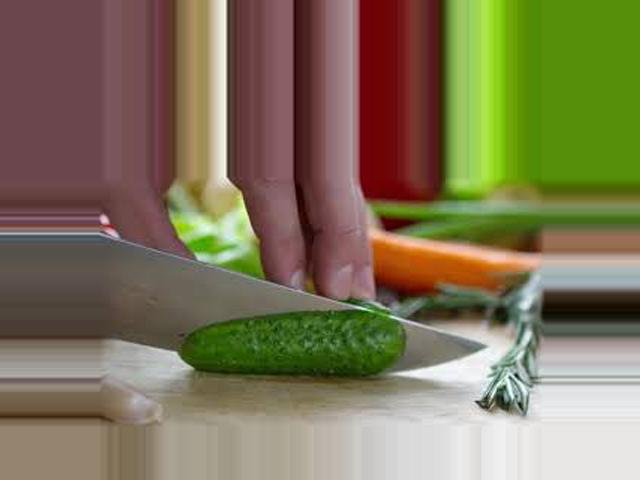cucumber: (180, 310, 407, 378)
